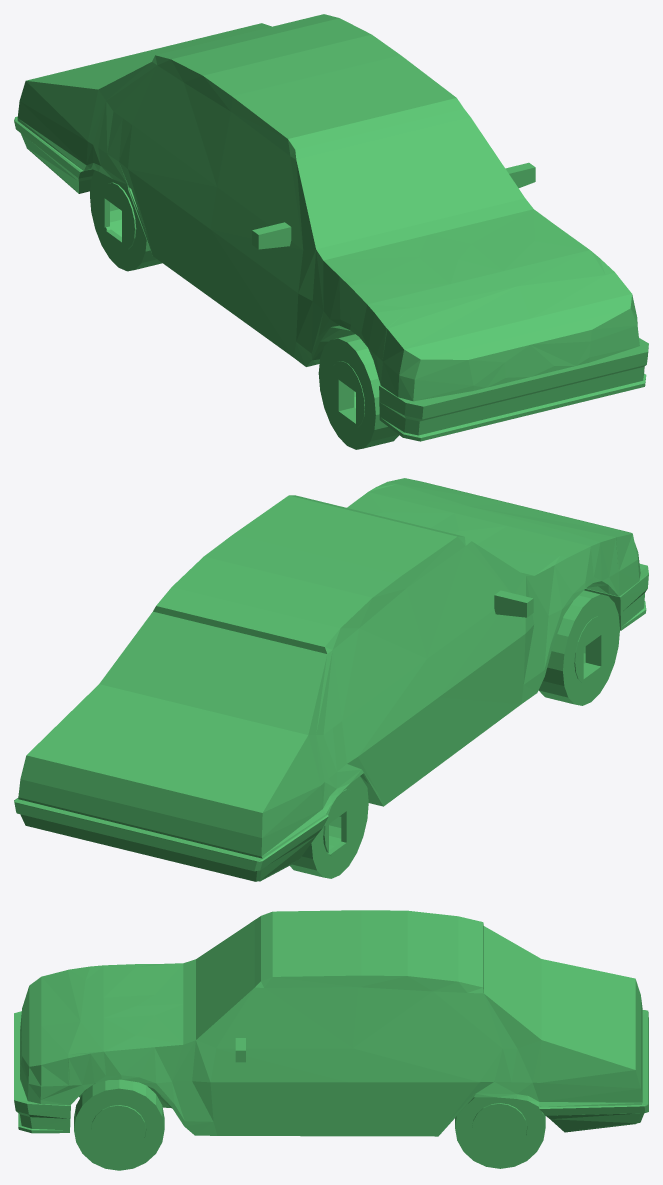
The model's file is CocheVerde.glb.
3 views of the same model, one above another, from view 1: azimuth 30°, elevation 25°; view 2: azimuth 150°, elevation 25°; view 3: azimuth 270°, elevation 25° (orthographic). The views are drawn at different scales.
Visible parts, largest first — view 1: Mesh_Mesh_head_geo.001_lambert2SG.001; view 2: Mesh_Mesh_head_geo.001_lambert2SG.001; view 3: Mesh_Mesh_head_geo.001_lambert2SG.001.
Boxes of the visible parts, x1,y1,x2,y2 form: Mesh_Mesh_head_geo.001_lambert2SG.001: (14,14,648,449); Mesh_Mesh_head_geo.001_lambert2SG.001: (14,478,648,881); Mesh_Mesh_head_geo.001_lambert2SG.001: (14,910,648,1170).
Size of the model in its own units: 0.00235 by 0.00185 by 0.00587.
